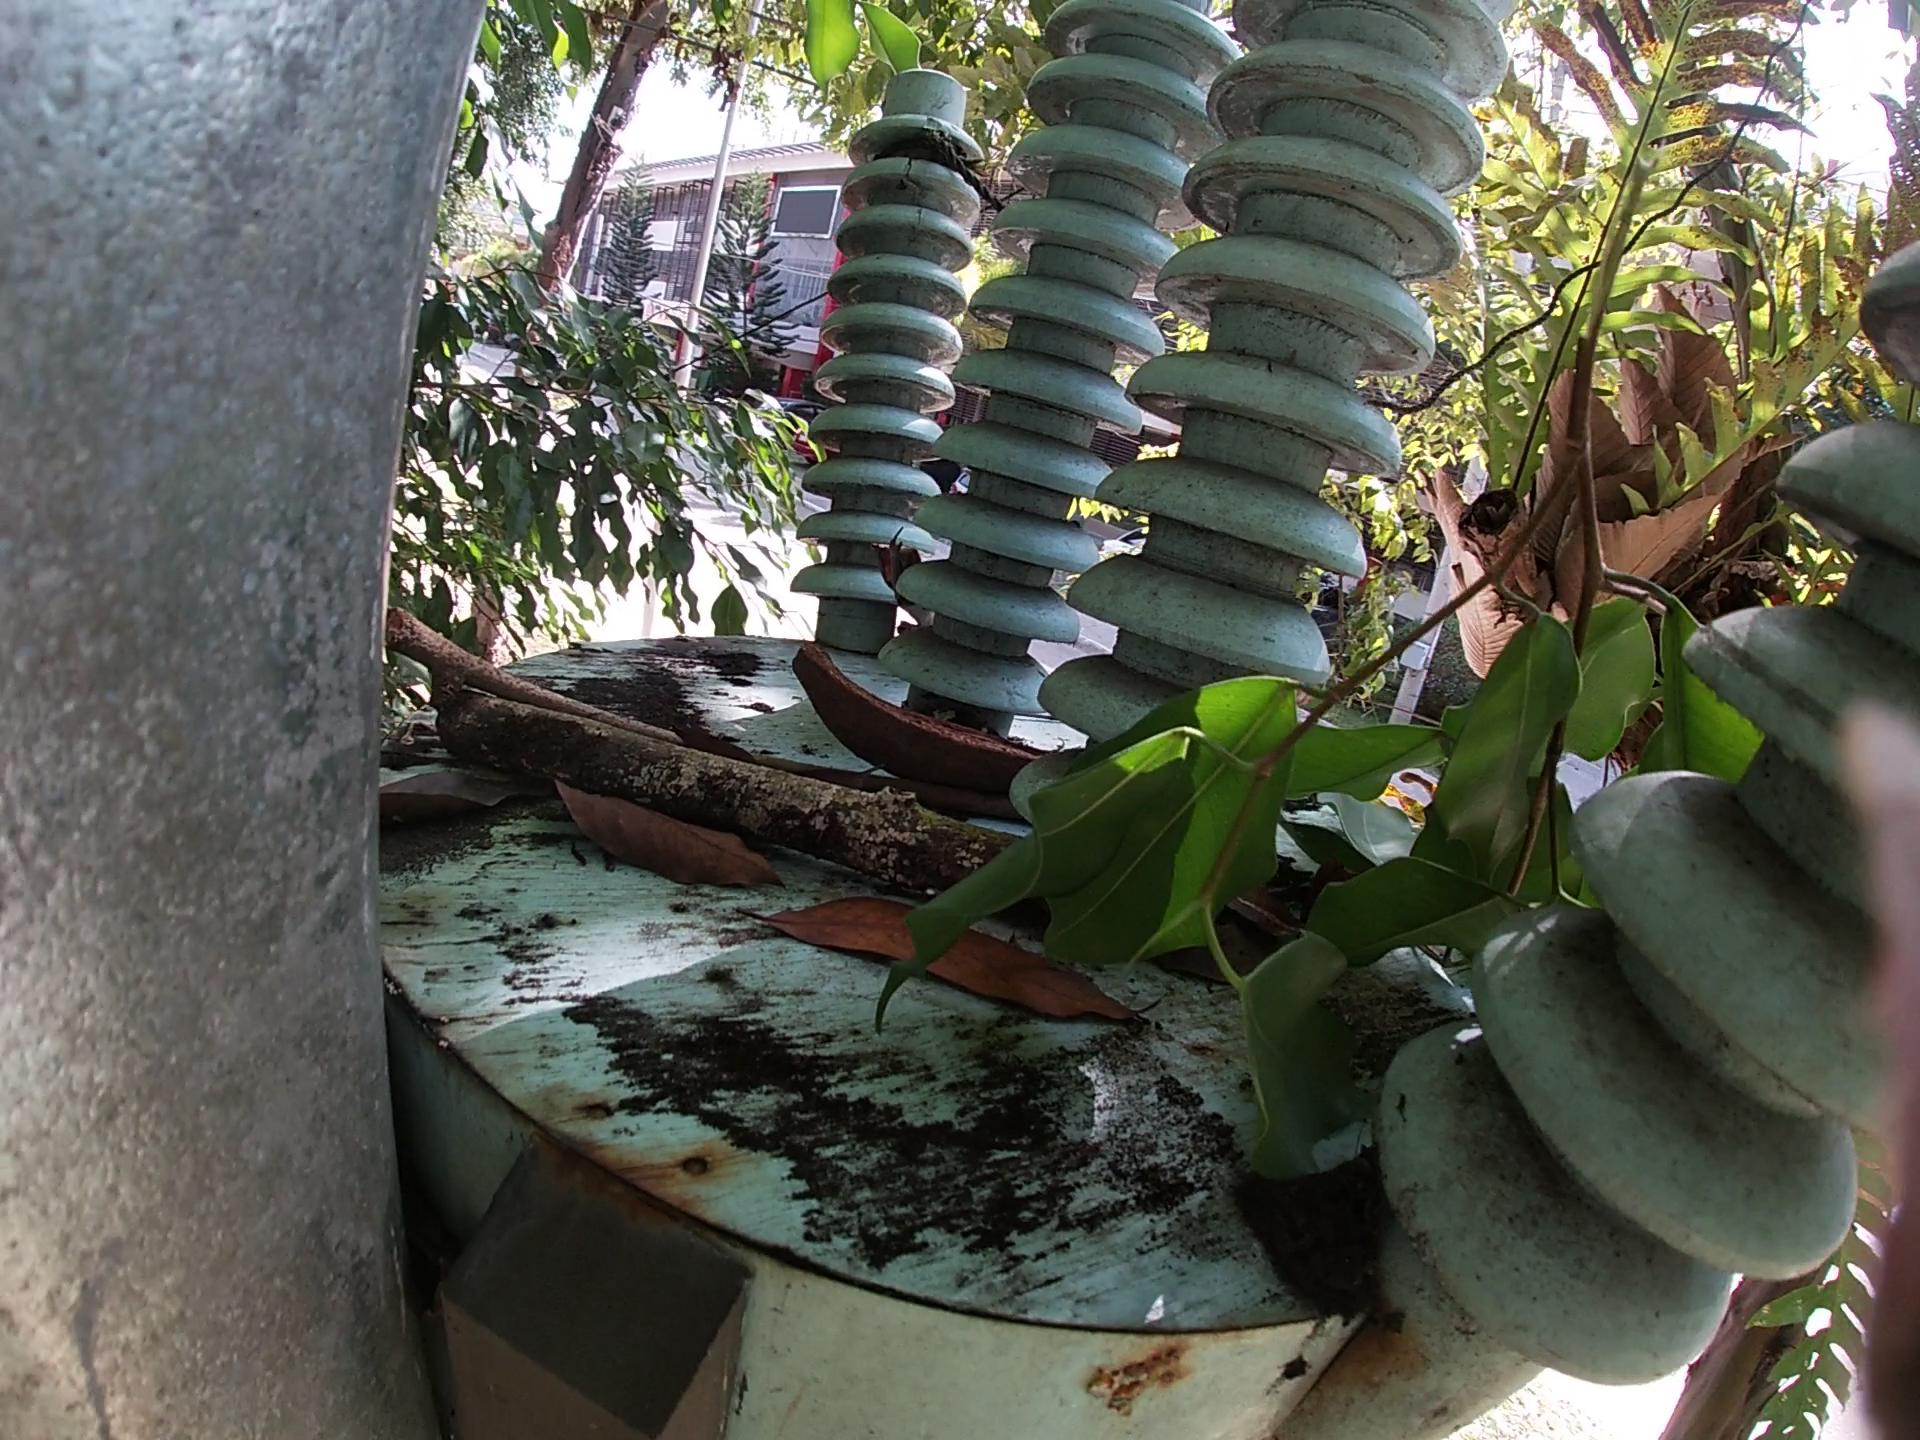branch with leaves: (877, 160, 1757, 1286)
leaf: (763, 892, 1158, 1029), (526, 774, 803, 885), (384, 768, 503, 829)
mahogany fruit: (774, 658, 1058, 814)
tree branch: (461, 691, 1008, 882), (379, 622, 918, 800)
